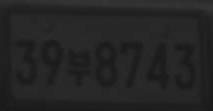3: (172, 42, 197, 89), (13, 39, 39, 84)
4: (146, 41, 170, 89)
7: (119, 41, 145, 88)
8: (95, 41, 118, 86)
9: (39, 38, 64, 84)
부: (67, 47, 90, 86)
